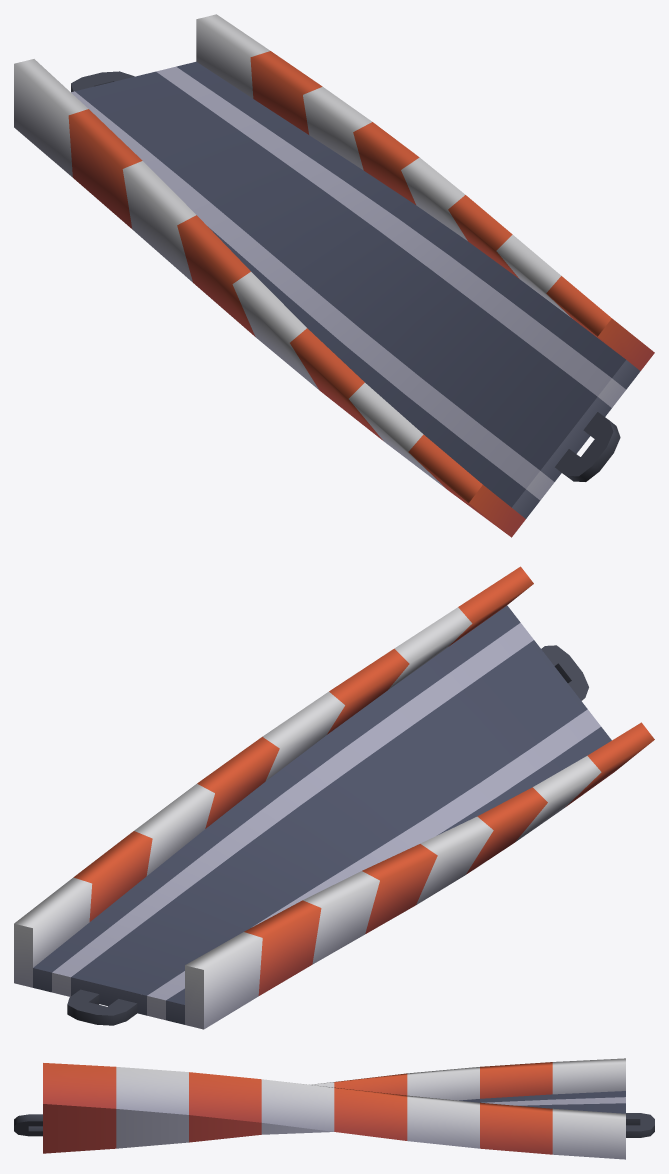
File: track-road-narrow-straight-skew-right.glb
3 views of the same model, one above another, from view 1: azimuth 30°, elevation 25°; view 2: azimuth 150°, elevation 25°; view 3: azimuth 270°, elevation 25° (orthographic). The views are drawn at different scales.
Parts seen in each view (by area): view 1: track-road-narrow-straight-skew-right; view 2: track-road-narrow-straight-skew-right; view 3: track-road-narrow-straight-skew-right.
Part boxes in pixels (x1=…): track-road-narrow-straight-skew-right: x1=14, y1=14, x2=654, y2=537; track-road-narrow-straight-skew-right: x1=14, y1=566, x2=654, y2=1029; track-road-narrow-straight-skew-right: x1=14, y1=1058, x2=654, y2=1159.
Size of the model in its own units: 1.08 by 0.9192 by 4.4.
